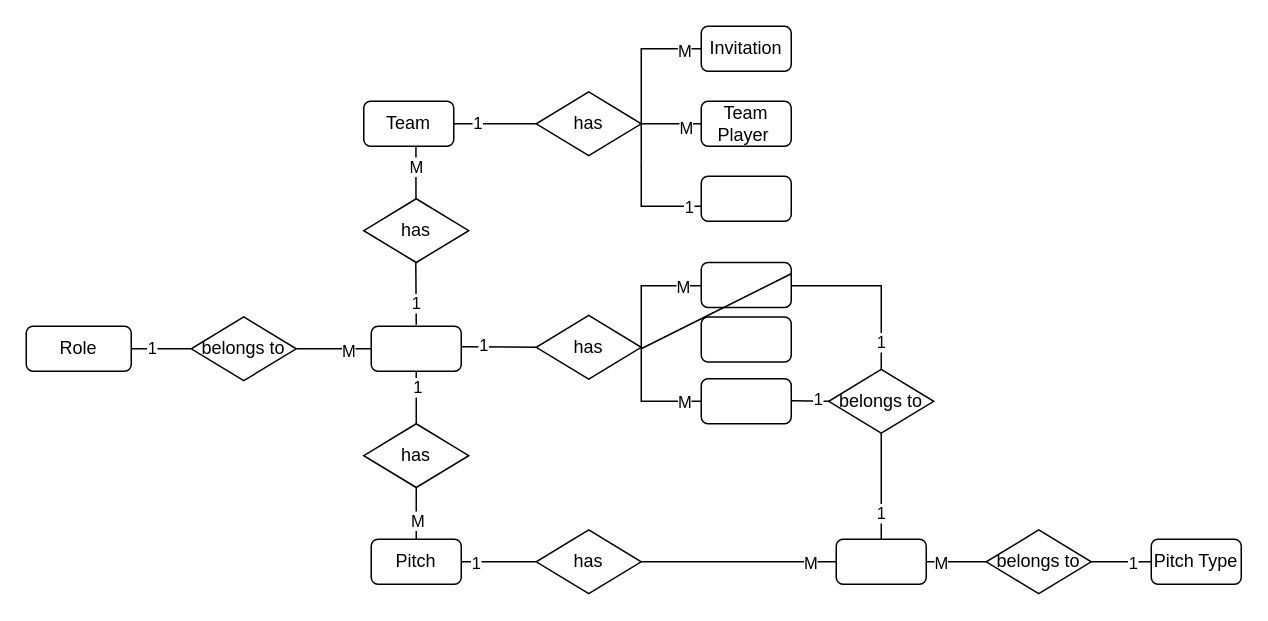
The diagram is 1268 pixels wide and 621 high, and some of its shapes have lost their labels. Here are the shapes that lost their labels. From the top down, the centre of each, then its label:
At [745,198]: "Level".
At [745,284]: "Review Pitch".
At [415,348]: "User".
At [745,338]: "Booking".
At [745,400]: "Request".
At [880,561]: "Mini Pitch".
